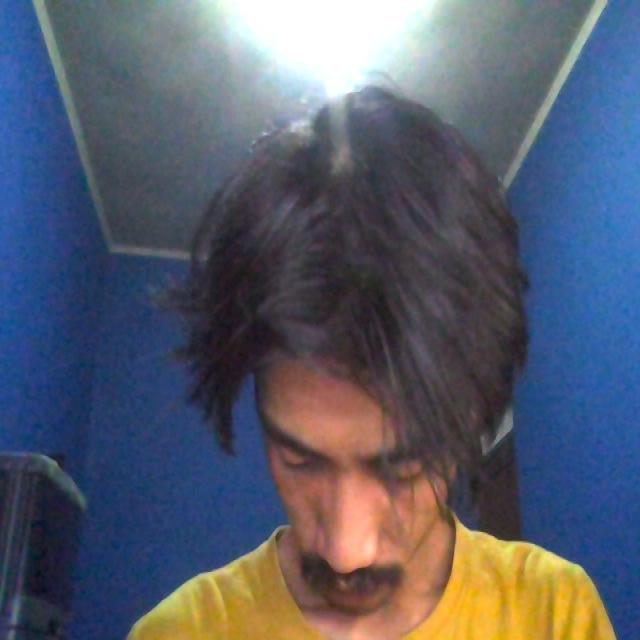Melihat Kebawah: (156, 62, 544, 603)
